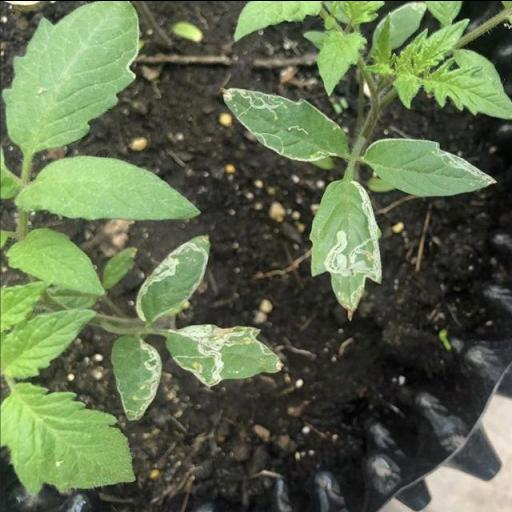Healthy: (0, 0, 140, 147), (0, 380, 138, 498), (17, 153, 201, 223), (2, 226, 104, 298), (0, 307, 100, 380)
Leaf Miner: (310, 176, 384, 315), (218, 86, 346, 162), (126, 231, 218, 327), (162, 321, 284, 388), (361, 136, 497, 196), (107, 334, 165, 420)
